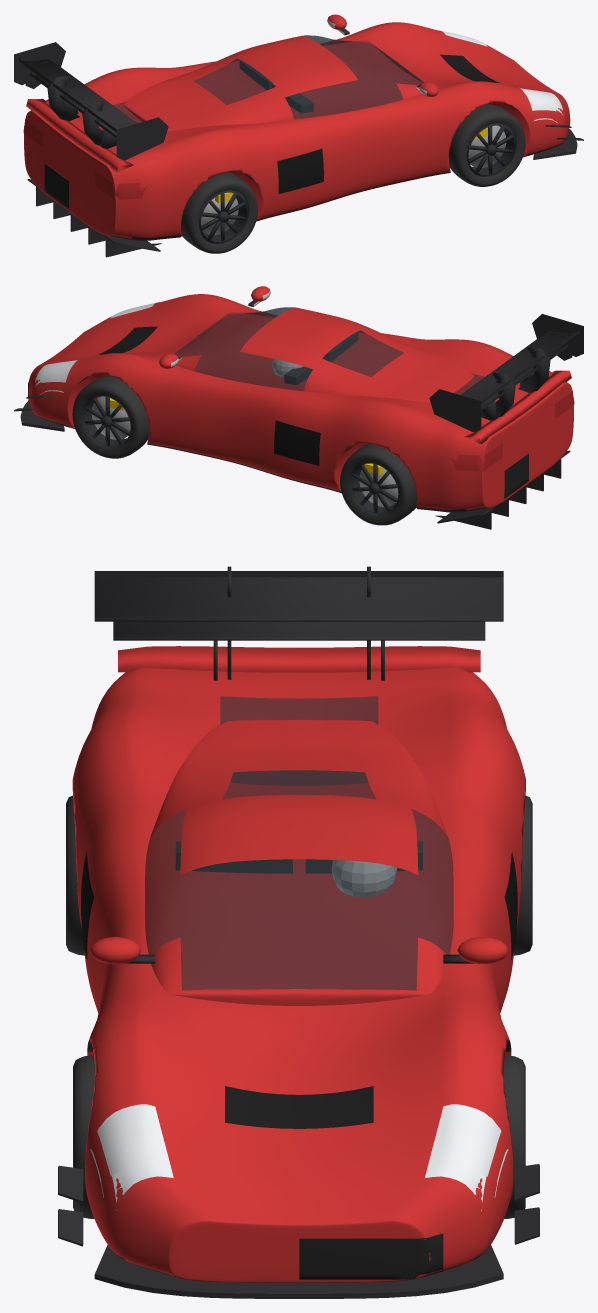
Rendered from v8_mid_berlinetta.glb.
The picture shows the model from 3 angles, top to bottom: view 1: azimuth 30°, elevation 25°; view 2: azimuth 150°, elevation 25°; view 3: azimuth 270°, elevation 25°; orthographic projection. The views are drawn at different scales.
Visible parts, largest first — view 1: body, cabin, bumper_rear, wing_rear_up3, bumper_front, wheel_fr_spin, wheel_rr_spin, diffuser, wing_rear, wing_rear_up2, interior, splitter_up; view 2: body, cabin, bumper_rear, wing_rear_up3, bumper_front, wheel_fl_spin, wheel_rl_spin, diffuser, wing_rear, interior, wing_rear_up2, splitter_up; view 3: body, cabin, bumper_front, wing_rear_up3, bumper_rear, wing_rear, wing_rear_up2, splitter_up, interior, splitter, canards, wheel_fl_spin (+5 smaller).
Boxes of the visible parts, <box> form: body: <box>84,22,530,238</box>; cabin: <box>123,35,424,130</box>; bumper_rear: <box>23,99,169,240</box>; wing_rear_up3: <box>14,42,168,160</box>; bumper_front: <box>437,30,570,156</box>; wheel_fr_spin: <box>448,104,525,186</box>; wheel_rr_spin: <box>181,172,257,253</box>; diffuser: <box>27,179,161,257</box>; wing_rear: <box>26,99,133,172</box>; wing_rear_up2: <box>25,62,116,148</box>; interior: <box>239,60,313,113</box>; splitter_up: <box>533,128,577,159</box>; body: <box>67,294,513,510</box>; cabin: <box>173,307,474,402</box>; bumper_rear: <box>428,371,574,512</box>; wing_rear_up3: <box>429,314,583,432</box>; bumper_front: <box>28,302,160,427</box>; wheel_fl_spin: <box>72,376,149,458</box>; wheel_rl_spin: <box>340,443,416,525</box>; diffuser: <box>435,450,570,529</box>; wing_rear: <box>464,370,571,444</box>; interior: <box>272,332,358,384</box>; wing_rear_up2: <box>481,333,572,420</box>; splitter_up: <box>20,400,64,431</box>; body: <box>72,691,525,1195</box>; cabin: <box>145,719,453,1005</box>; bumper_front: <box>85,1095,513,1282</box>; wing_rear_up3: <box>94,566,503,679</box>; bumper_rear: <box>91,667,506,728</box>; wing_rear: <box>118,646,480,672</box>; wing_rear_up2: <box>113,621,485,680</box>; splitter_up: <box>94,1245,503,1298</box>; interior: <box>175,841,422,897</box>; splitter: <box>102,1250,496,1288</box>; canards: <box>58,1164,539,1246</box>; wheel_fl_spin: <box>503,1055,525,1218</box>.
Bounding box in the file's own units: 4.72 × 1.39 × 2.05.
